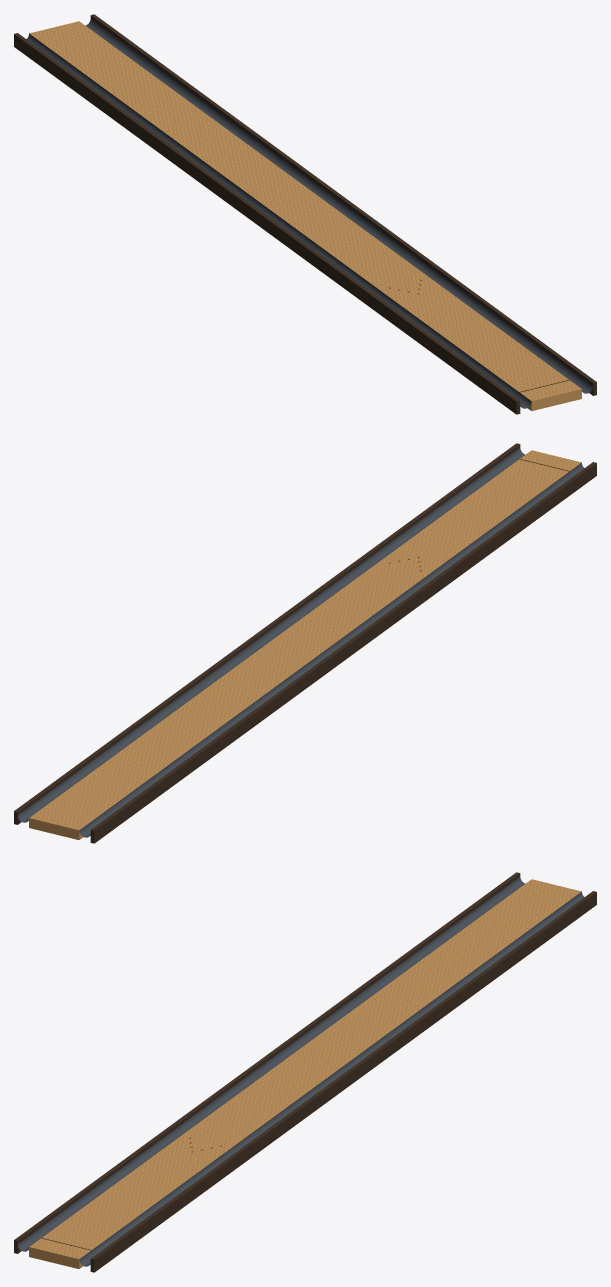
Rendered from BowlingLane.fbx.
3 renders of one model, top to bottom at view 1: azimuth 30°, elevation 25°; view 2: azimuth 150°, elevation 25°; view 3: azimuth 330°, elevation 25°, orthographic.
Parts seen in each view (by area): view 1: BowlingLane; view 2: BowlingLane; view 3: BowlingLane.
Part boxes in pixels (x1,y1,x2,y2): BowlingLane: (14,14,596,414); BowlingLane: (14,443,596,843); BowlingLane: (14,872,596,1272).
Size of the model in its own units: 169 by 26.5 by 1829.
